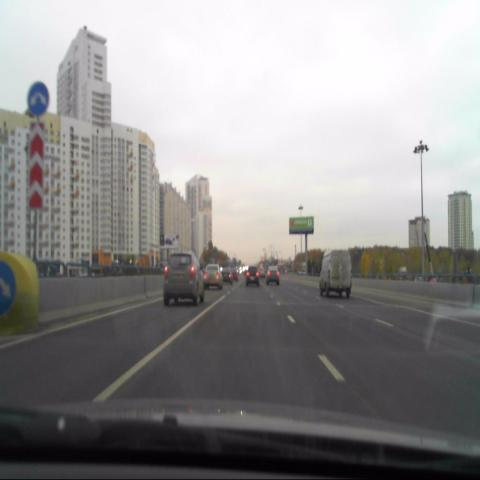4_2_3: (27, 81, 49, 116)
